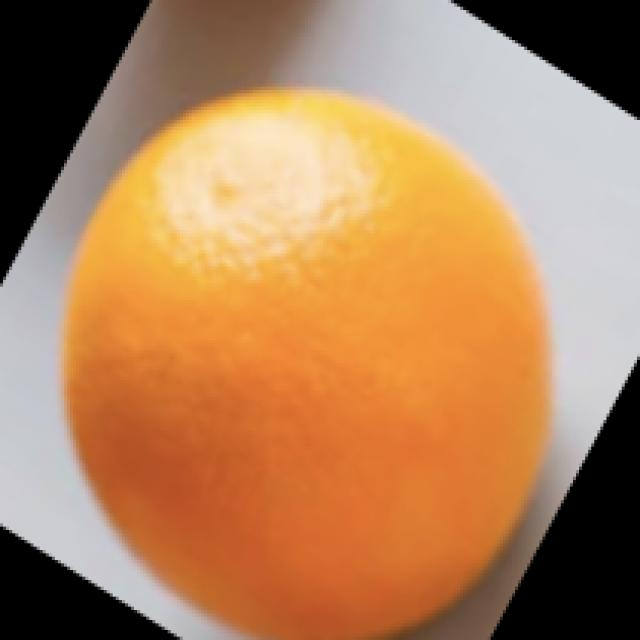fresh: (49, 74, 559, 640)
